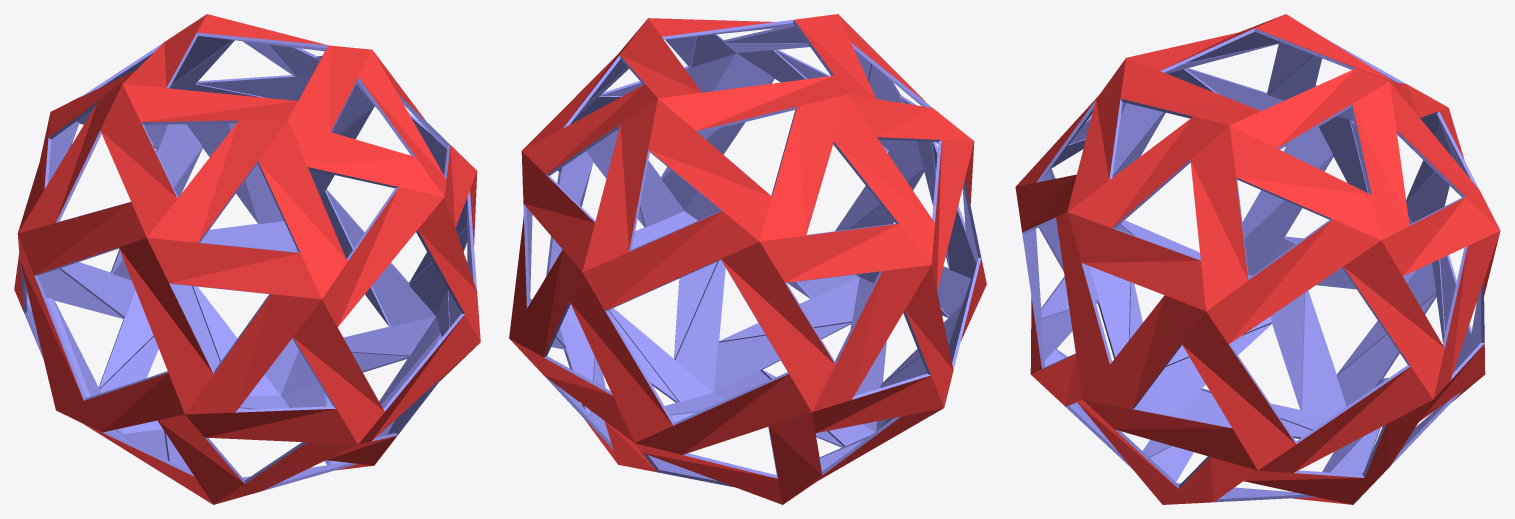
File: SnubCube.glb
3 renders of one model, left to right at view 1: azimuth 30°, elevation 25°; view 2: azimuth 150°, elevation 25°; view 3: azimuth 270°, elevation 25°, orthographic. The views are drawn at different scales.
Parts seen in each view (by area): view 1: root; view 2: root; view 3: root.
Part boxes in pixels (<box>): root: <box>14,14,480,504</box>; root: <box>509,14,986,504</box>; root: <box>1015,14,1500,504</box>.
Size of the model in its own units: 7.63 by 6.86 by 7.63.
